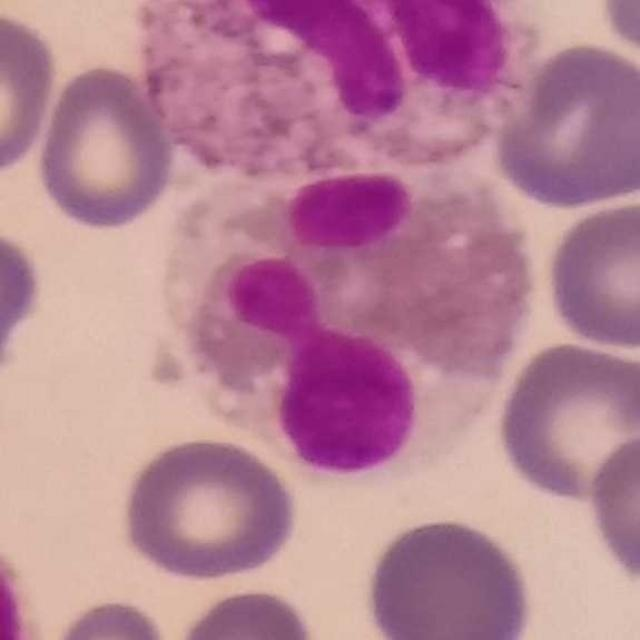eosino: (142, 176, 561, 495), (129, 2, 564, 182)
